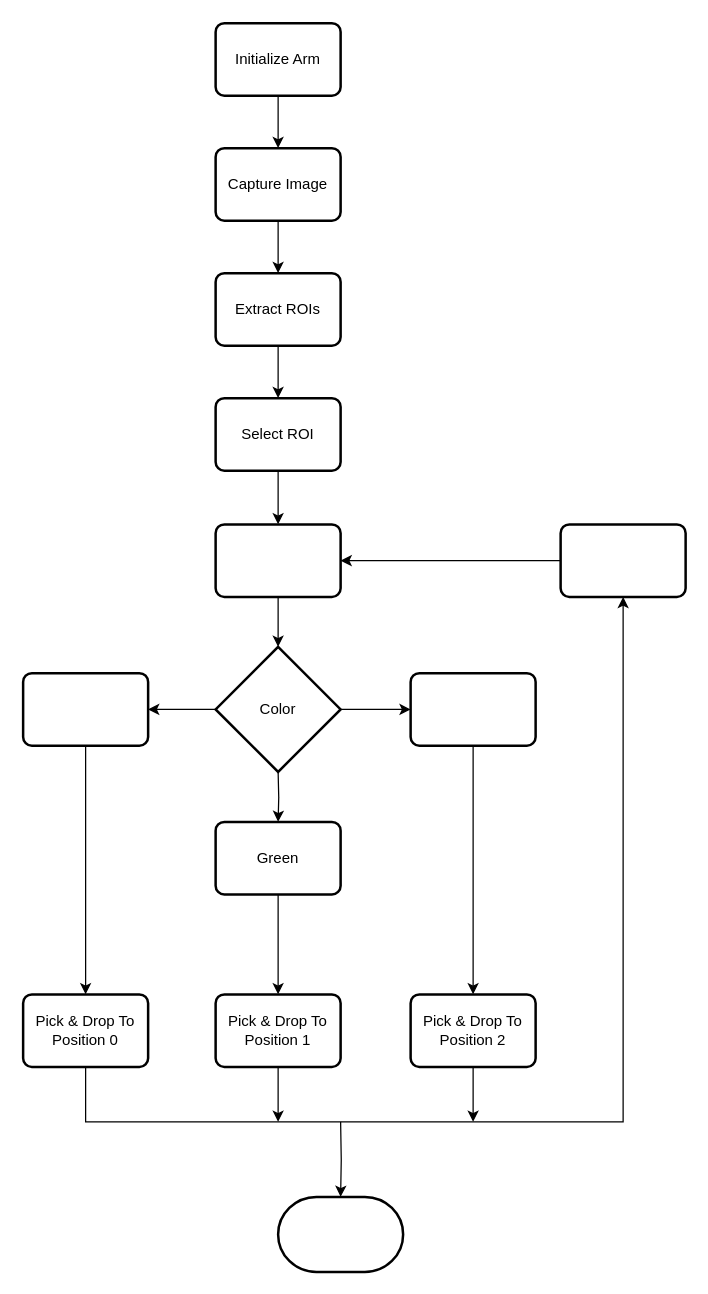
The diagram is 708 pixels wide and 1294 high, and some of its shapes have lost their labels. Each missing label, with the centre of its shape:
"Blue" belongs at (x=472, y=708).
"End Routine" belongs at (x=340, y=1233).
"Get Average Color" belongs at (x=277, y=560).
"Next ROI" belongs at (x=622, y=560).
"Red" belongs at (x=85, y=708).
